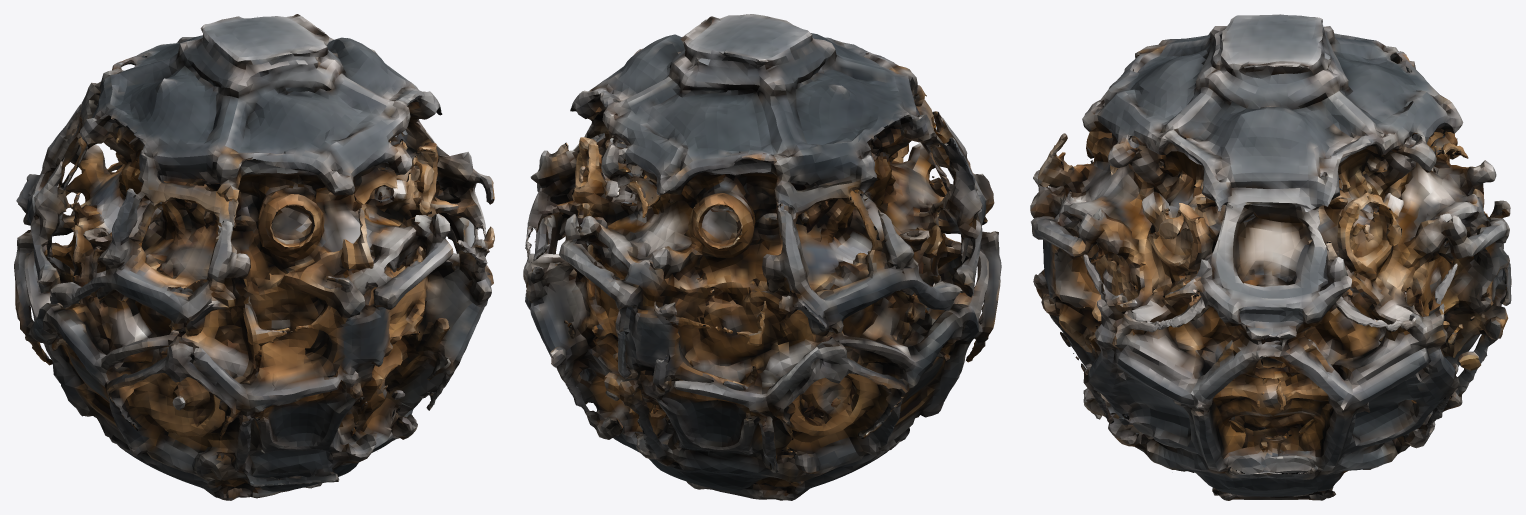
File: Dome_High.fbx
3 views of the same model, side by side, from view 1: azimuth 30°, elevation 25°; view 2: azimuth 150°, elevation 25°; view 3: azimuth 270°, elevation 25° (orthographic).
Parts seen in each view (by area): view 1: Dome_Low; view 2: Dome_Low; view 3: Dome_Low.
Part boxes in pixels (x1,y1,x2,y2): Dome_Low: [14, 14, 494, 500]; Dome_Low: [523, 14, 1001, 500]; Dome_Low: [1030, 14, 1511, 500].
Size of the model in its own units: 96.9 by 96.74 by 93.78.
1 material, 1 textured.
